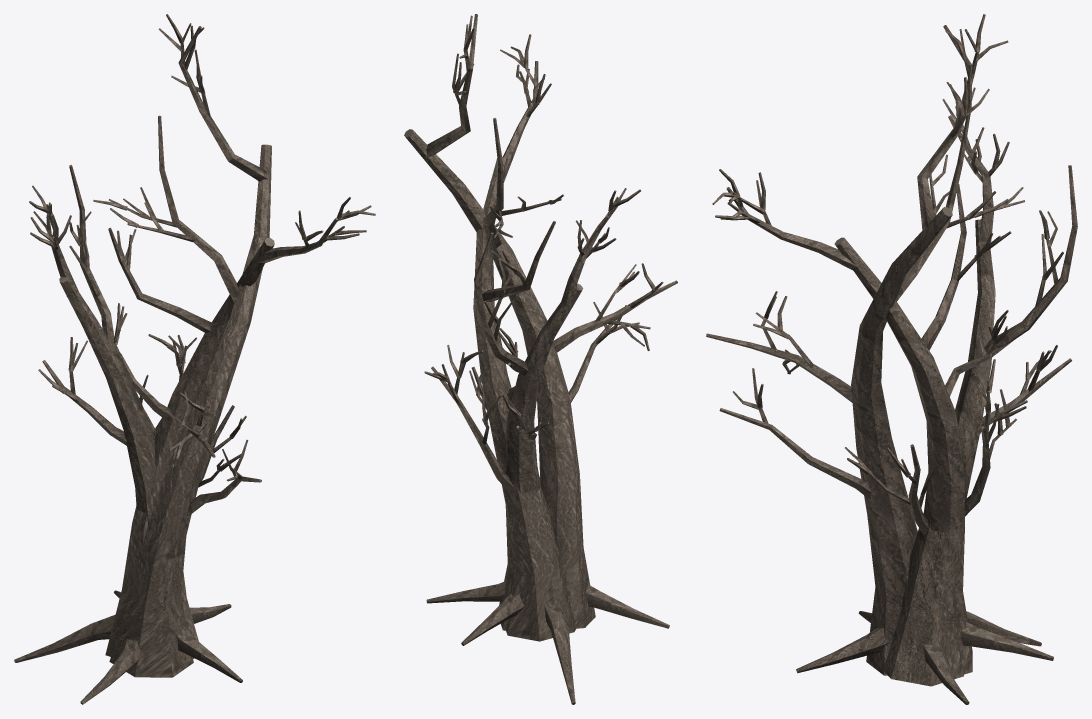
Rendered from dead_tree_c.glb.
3 renders of one model, left to right at view 1: azimuth 30°, elevation 25°; view 2: azimuth 150°, elevation 25°; view 3: azimuth 270°, elevation 25°, orthographic. The views are drawn at different scales.
Parts seen in each view (by area): view 1: dead_tree_c; view 2: dead_tree_c; view 3: dead_tree_c.
Part boxes in pixels (box(x1,y1,x2,y2)): dead_tree_c: box(14, 14, 375, 704); dead_tree_c: box(404, 14, 677, 704); dead_tree_c: box(706, 14, 1077, 704).
Bounding box in the file's own units: 2.01 × 5.03 × 2.42.
Materials: 1 (1 with a texture image).
